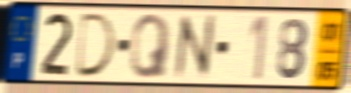1: (246, 12, 270, 84)
2: (39, 11, 73, 78)
8: (276, 17, 309, 82)
D: (72, 11, 120, 80)
N: (172, 12, 217, 83)
Q: (128, 12, 173, 81)
